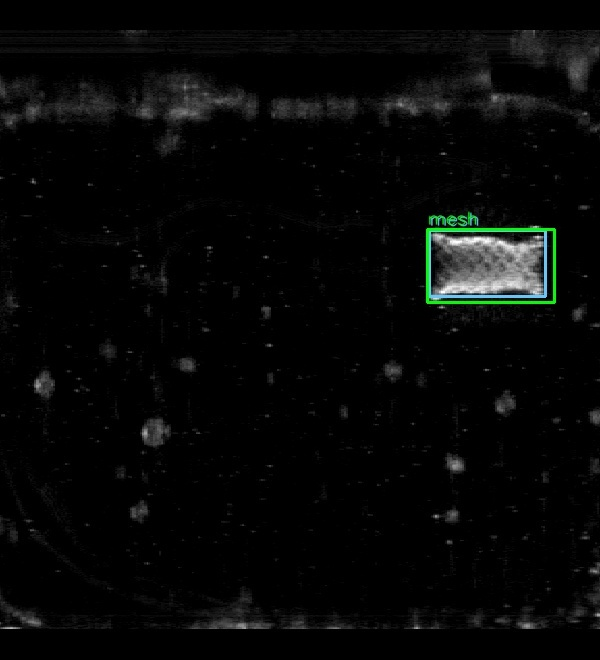mesh: (429, 230, 545, 296)
